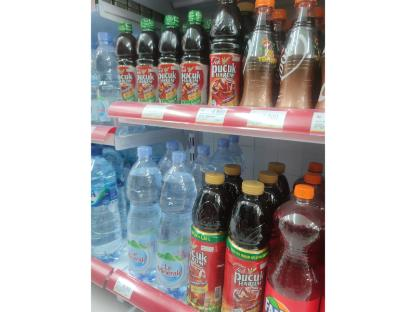Plastic Bottle: (184, 174, 235, 312), (224, 178, 272, 312), (156, 148, 196, 306), (124, 140, 162, 298), (272, 182, 318, 312), (244, 0, 280, 112), (207, 0, 242, 106), (182, 9, 212, 112), (134, 12, 160, 110), (160, 13, 184, 108), (112, 16, 134, 106)
